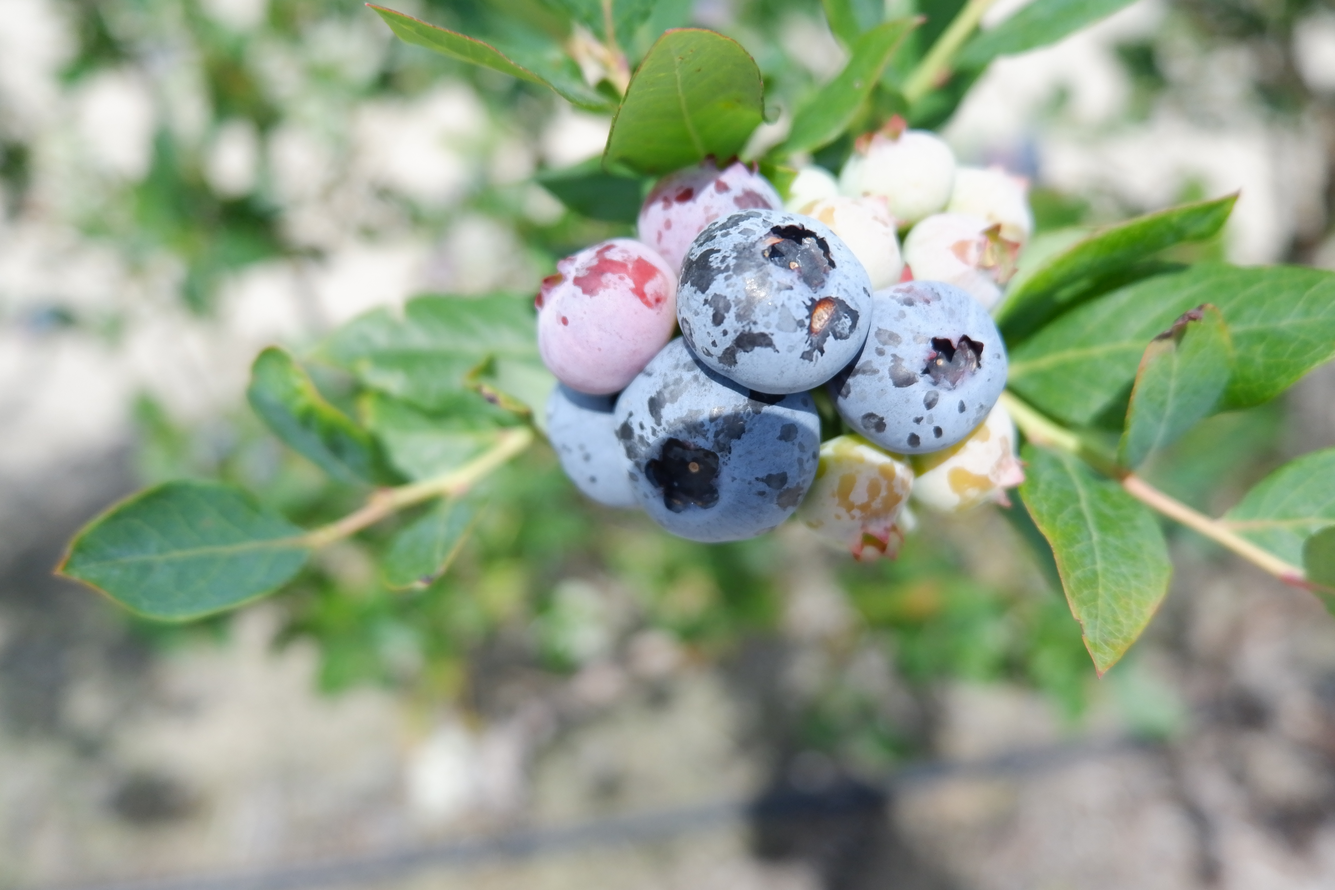Immature: (537, 241, 676, 392), (638, 158, 776, 271), (802, 433, 911, 559), (843, 118, 953, 230), (913, 409, 1021, 509), (905, 214, 1019, 306), (813, 195, 904, 288), (949, 168, 1033, 245)
Mature: (616, 342, 819, 537), (681, 212, 870, 389), (831, 282, 1005, 453), (543, 383, 637, 506)
